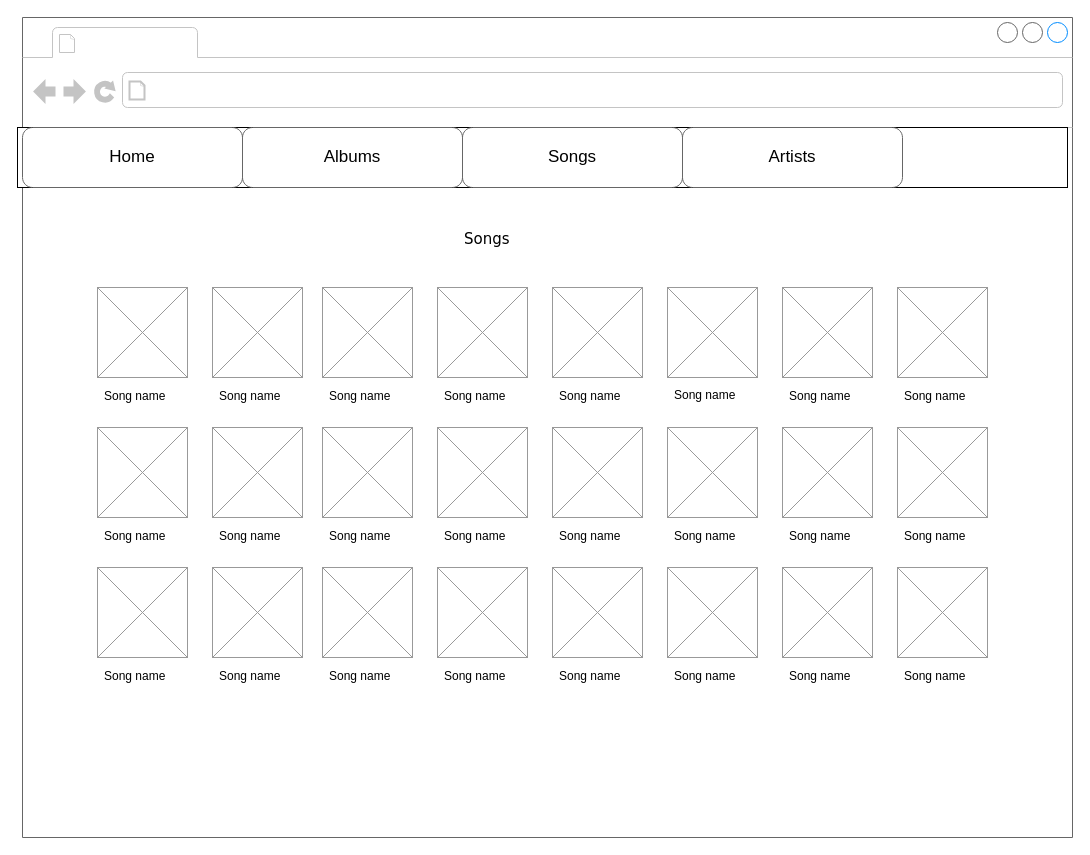
This 1090x855 diagram has some shape labels left out. The shapes that lost their labels are listed below. From the top down, each one's centre as x and y in pixels, then its label:
point 137,42: Page 1
point 277,90: https://www.default.com/songs
